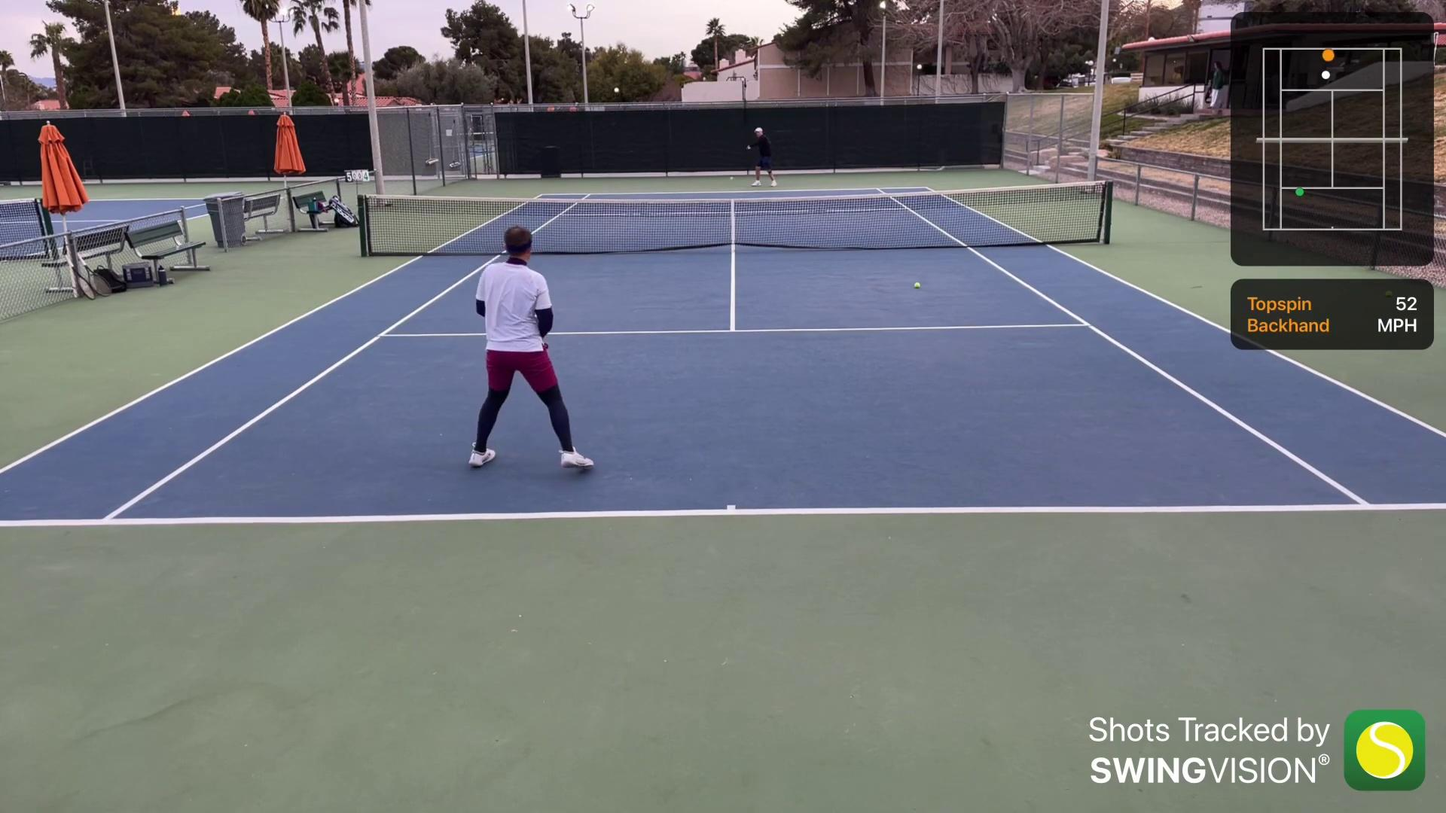ball: (913, 280, 920, 291), (729, 175, 735, 183)
